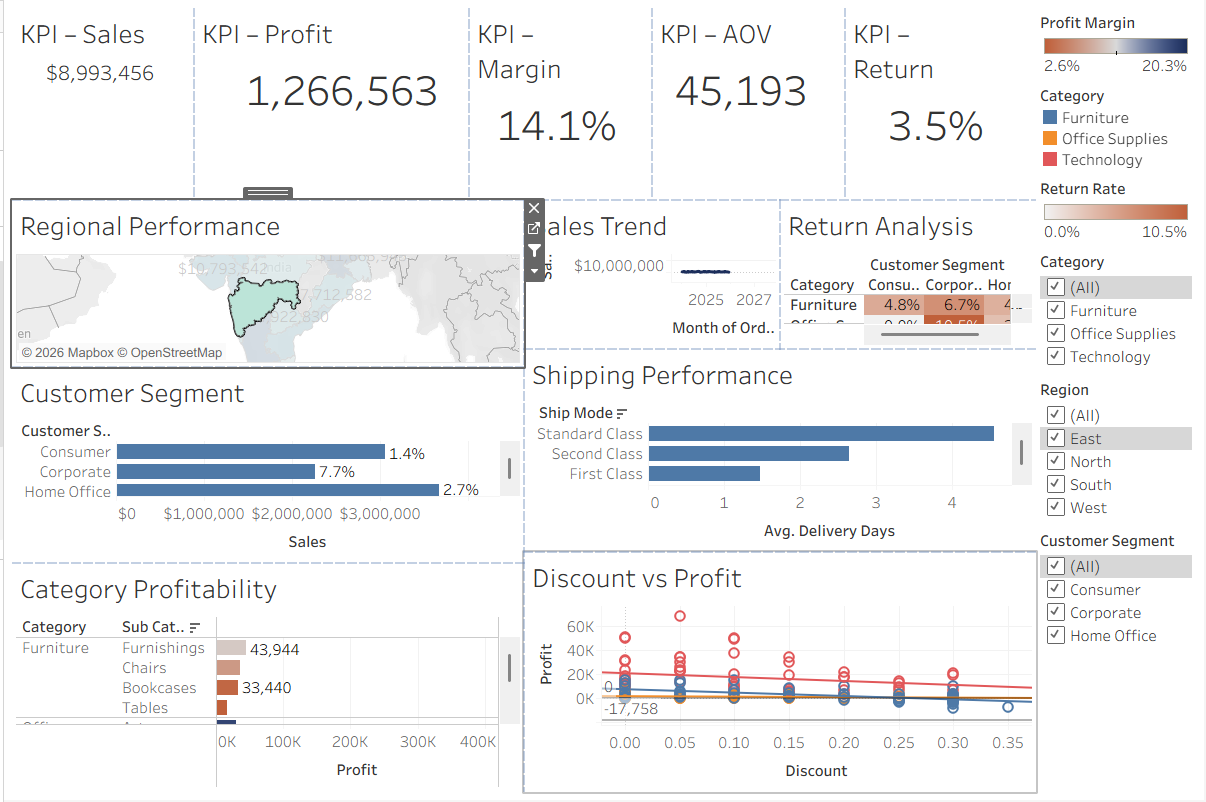

The dashboard page shown, as its layout file describes it:
{"tool":"tableau","page":{"name":"Dashboard 1","canvas":[1200,800],"ordinal":0},"visuals":[{"type":"worksheet","title":"KPI – Sales","mark":"Text","box":[8,8,182,192]},{"type":"worksheet","title":"KPI – Profit","mark":"Text","box":[190,8,275,192]},{"type":"worksheet","title":"KPI – Margin","mark":"Text","box":[465,8,183,192]},{"type":"worksheet","title":"KPI – AOV","mark":"Text","box":[648,8,193,192]},{"type":"worksheet","title":"KPI – Return","mark":"Text","box":[841,8,191,192]},{"type":"legend","title":"Category Profitability","param":"[federated.0u7lzpp0jt2nqm1g4v8ok17r5bjo].[usr:Calculation_1635540993736704:qk]","box":[1032,8,160,73]},{"type":"legend","title":"Discount vs Profit","param":"[federated.0u7lzpp0jt2nqm1g4v8ok17r5bjo].[none:category:nk]","box":[1032,81,160,93]},{"type":"legend","title":"Return Analysis","param":"[federated.0u7lzpp0jt2nqm1g4v8ok17r5bjo].[usr:Calculation_1635540994158595:qk]","box":[1032,174,160,73]},{"type":"worksheet","title":"Regional Performance","mark":"Multipolygon","box":[8,200,512,166.5]},{"type":"worksheet","title":"Sales Trend","mark":"Line","rows":["sales"],"cols":["order_date"],"box":[520,200,256,149]},{"type":"worksheet","title":"Return Analysis","mark":"Square","rows":["category"],"cols":["customer_segment"],"box":[776,200,256,149]},{"type":"filter","title":"Category Profitability","param":"[federated.0u7lzpp0jt2nqm1g4v8ok17r5bjo].[none:category:nk]","box":[1032,247,160,128]},{"type":"worksheet","title":"Shipping Performance","mark":"Automatic","rows":["ship_mode"],"cols":["delivery_days"],"box":[520,349,512,203]},{"type":"worksheet","title":"Customer Segment","mark":"Automatic","rows":["customer_segment"],"cols":["sales"],"box":[8,366.5,512,196.5]},{"type":"filter","title":"Regional Performance","param":"[federated.0u7lzpp0jt2nqm1g4v8ok17r5bjo].[none:region:nk]","box":[1032,375,160,151]},{"type":"filter","title":"Customer Segment","param":"[federated.0u7lzpp0jt2nqm1g4v8ok17r5bjo].[none:customer_segment:nk]","box":[1032,526,160,128]},{"type":"worksheet","title":"Discount vs Profit","mark":"Automatic","rows":["profit"],"cols":["discount"],"box":[520,552,512,240]},{"type":"worksheet","title":"Category Profitability","mark":"Automatic","rows":["category","sub_category"],"cols":["profit"],"box":[8,563,512,229]}]}

Visuals, with their boxes in screenshot pixels (x1, y1, x2, y2), scaled from the page's 1200x800 canvas onto the 1206x802 screenshot:
"KPI – Sales" worksheet (Text marks): [8,8,191,200]
"KPI – Profit" worksheet (Text marks): [191,8,467,200]
"KPI – Margin" worksheet (Text marks): [467,8,651,200]
"KPI – AOV" worksheet (Text marks): [651,8,845,200]
"KPI – Return" worksheet (Text marks): [845,8,1037,200]
"Category Profitability" legend: [1037,8,1198,81]
"Discount vs Profit" legend: [1037,81,1198,174]
"Return Analysis" legend: [1037,174,1198,248]
"Regional Performance" worksheet (Multipolygon marks): [8,200,523,367]
"Sales Trend" worksheet (Line marks): [523,200,780,350]
"Return Analysis" worksheet (Square marks): [780,200,1037,350]
"Category Profitability" filter: [1037,248,1198,376]
"Shipping Performance" worksheet: [523,350,1037,553]
"Customer Segment" worksheet: [8,367,523,564]
"Regional Performance" filter: [1037,376,1198,527]
"Customer Segment" filter: [1037,527,1198,656]
"Discount vs Profit" worksheet: [523,553,1037,794]
"Category Profitability" worksheet: [8,564,523,794]
